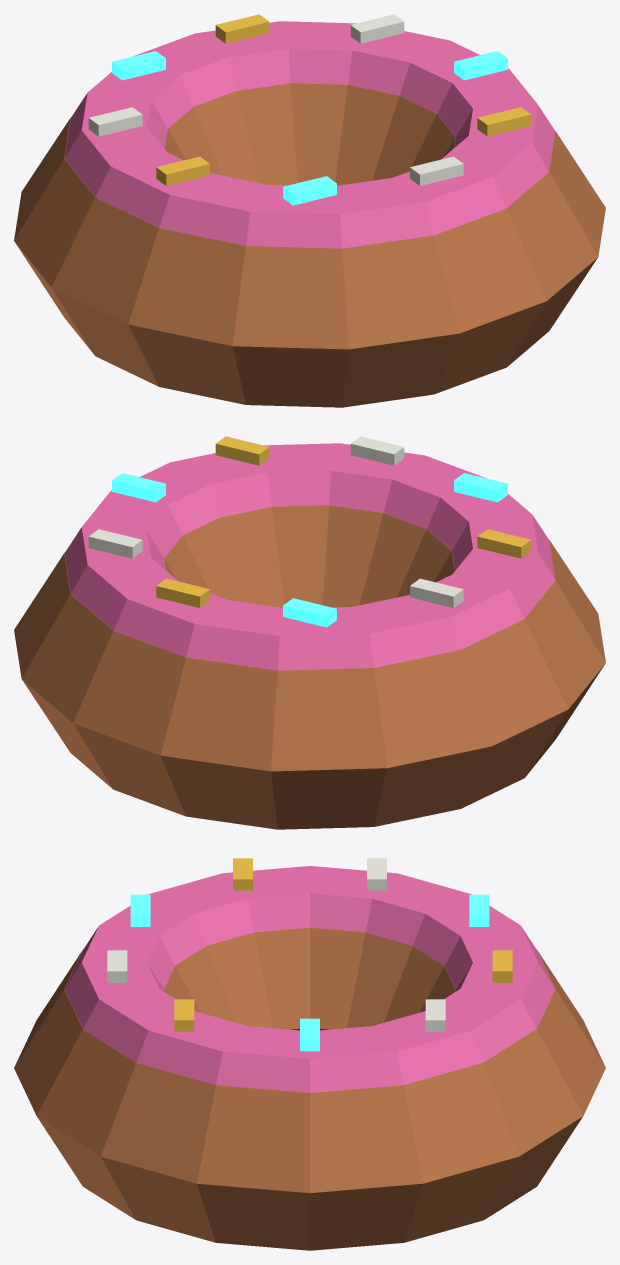
Rendered from sticky_donut.glb.
The picture shows the model from 3 angles, top to bottom: view 1: azimuth 30°, elevation 25°; view 2: azimuth 150°, elevation 25°; view 3: azimuth 270°, elevation 25°; orthographic projection.
Visible parts, largest first — view 1: Donut dough, Pink icing, Sprinkle 8, Sprinkle 4, Sprinkle 1, Sprinkle 2, Sprinkle 0, Sprinkle 6, Sprinkle 3, Sprinkle 5, Sprinkle 7; view 2: Donut dough, Pink icing, Sprinkle 1, Sprinkle 5, Sprinkle 7, Sprinkle 8, Sprinkle 0, Sprinkle 3, Sprinkle 6, Sprinkle 2, Sprinkle 4; view 3: Donut dough, Pink icing, Sprinkle 1, Sprinkle 2, Sprinkle 7, Sprinkle 8, Sprinkle 3, Sprinkle 6, Sprinkle 0, Sprinkle 4, Sprinkle 5.
Boxes of the visible parts, <box> form: Donut dough: <box>14,83,605,407</box>; Pink icing: <box>64,21,555,248</box>; Sprinkle 8: <box>477,107,531,136</box>; Sprinkle 4: <box>88,107,142,136</box>; Sprinkle 1: <box>350,14,404,43</box>; Sprinkle 2: <box>215,14,269,43</box>; Sprinkle 0: <box>454,51,507,80</box>; Sprinkle 6: <box>283,176,336,205</box>; Sprinkle 3: <box>112,51,165,80</box>; Sprinkle 5: <box>156,156,209,185</box>; Sprinkle 7: <box>410,156,463,185</box>; Donut dough: <box>14,505,605,829</box>; Pink icing: <box>64,443,555,670</box>; Sprinkle 1: <box>88,529,142,558</box>; Sprinkle 5: <box>477,529,531,558</box>; Sprinkle 7: <box>350,436,404,465</box>; Sprinkle 8: <box>215,436,269,465</box>; Sprinkle 0: <box>112,473,165,502</box>; Sprinkle 3: <box>283,598,336,627</box>; Sprinkle 6: <box>454,473,507,502</box>; Sprinkle 2: <box>156,578,209,607</box>; Sprinkle 4: <box>410,578,463,607</box>; Donut dough: <box>14,927,605,1250</box>; Pink icing: <box>64,866,555,1092</box>; Sprinkle 1: <box>425,999,445,1031</box>; Sprinkle 2: <box>492,950,512,982</box>; Sprinkle 7: <box>107,950,127,982</box>; Sprinkle 8: <box>174,999,194,1031</box>; Sprinkle 3: <box>469,894,489,926</box>; Sprinkle 6: <box>130,894,150,926</box>; Sprinkle 0: <box>300,1018,319,1051</box>; Sprinkle 4: <box>367,858,386,890</box>; Sprinkle 5: <box>233,858,252,890</box>.
Size of the model in its own units: 1.18 by 0.4407 by 1.18.
